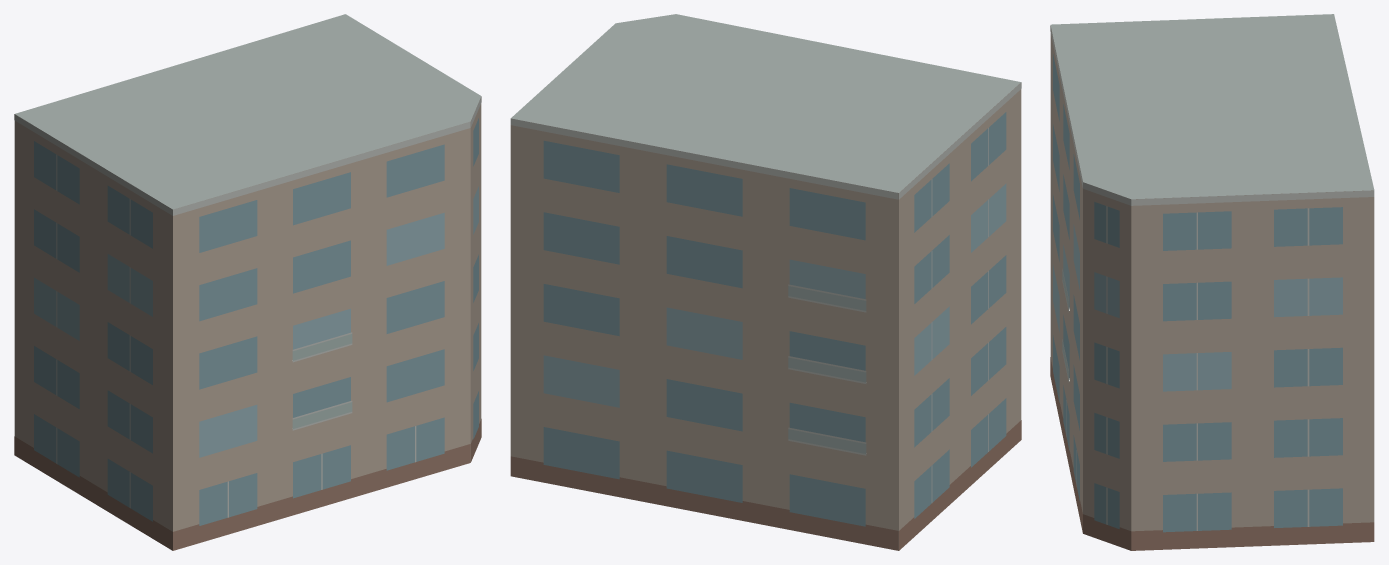
File: survey-upis-32654451.glb
The picture shows the model from 3 angles, left to right: view 1: azimuth 30°, elevation 25°; view 2: azimuth 150°, elevation 25°; view 3: azimuth 270°, elevation 25°; orthographic projection. The views are drawn at different scales.
Parts seen in each view (by area): view 1: survey-upis-32654451.tmp; view 2: survey-upis-32654451.tmp; view 3: survey-upis-32654451.tmp.
Boxes of the visible parts, left/top/right/bottom form: survey-upis-32654451.tmp: left=14, top=14, right=481, bottom=550; survey-upis-32654451.tmp: left=510, top=14, right=1021, bottom=550; survey-upis-32654451.tmp: left=1050, top=14, right=1374, bottom=550.
Bounding box in the file's own units: 14.7 × 13 × 10.87.
